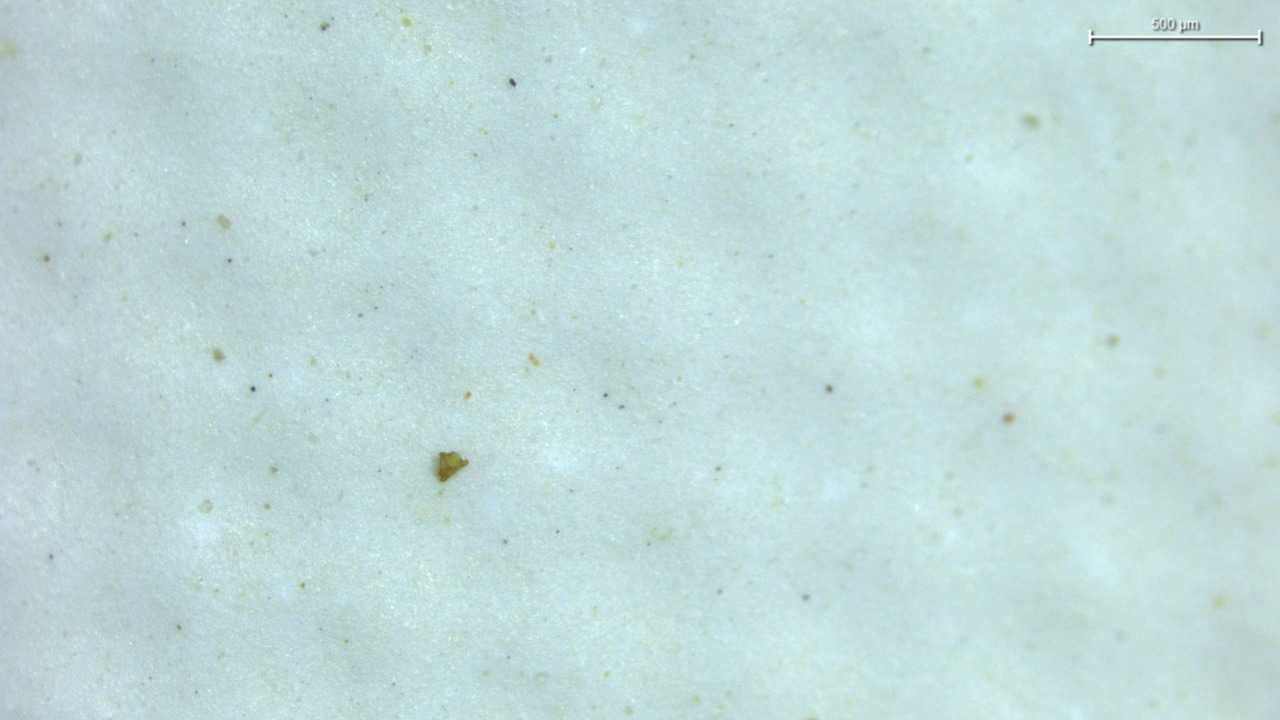microplastic_fragment: (438, 451, 468, 482)
